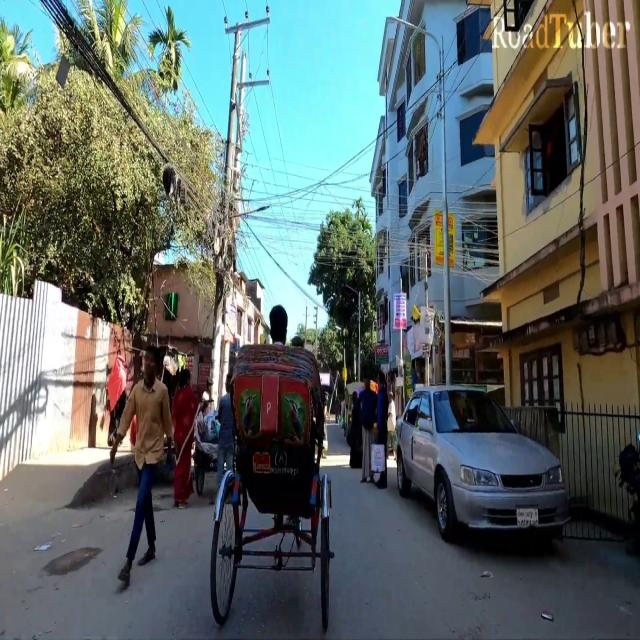silver: (402, 382, 581, 562)
